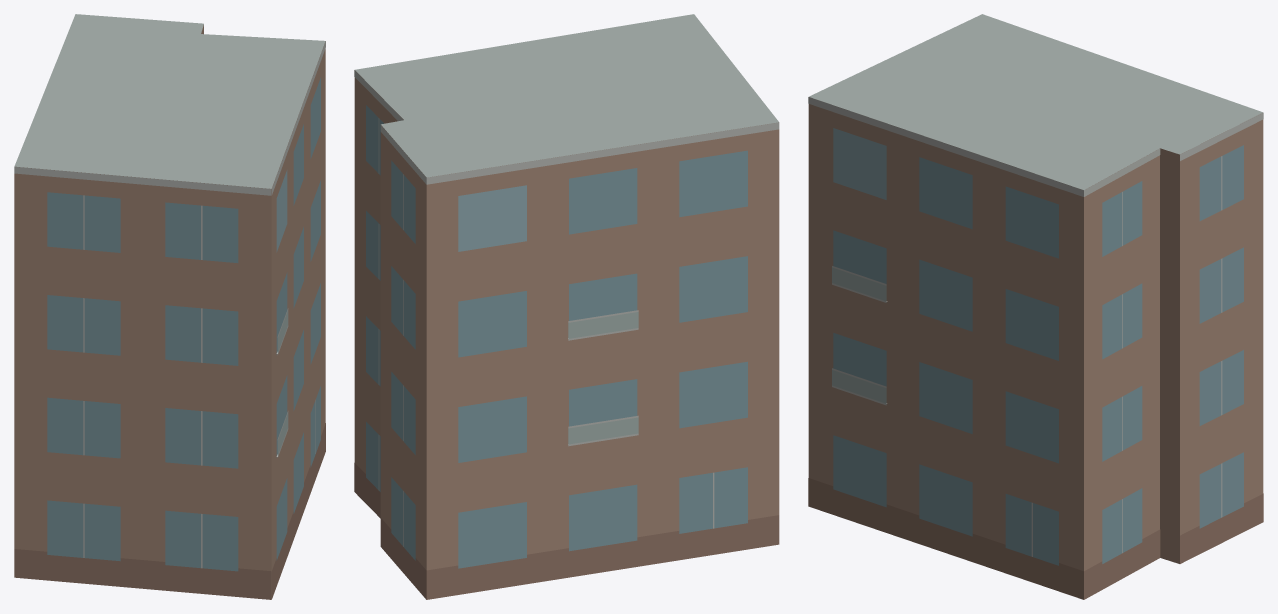
File: survey-upis-33034046.glb
The picture shows the model from 3 angles, left to right: view 1: azimuth 30°, elevation 25°; view 2: azimuth 150°, elevation 25°; view 3: azimuth 270°, elevation 25°; orthographic projection. The views are drawn at different scales.
Visible parts, largest first — view 1: survey-upis-33034046.tmp; view 2: survey-upis-33034046.tmp; view 3: survey-upis-33034046.tmp.
Part boxes in pixels (x1,y1,x2,y2): survey-upis-33034046.tmp: (14,14,325,599); survey-upis-33034046.tmp: (354,14,779,599); survey-upis-33034046.tmp: (808,14,1263,599).
Bounding box in the file's own units: 13.39 × 14.5 × 14.6.
